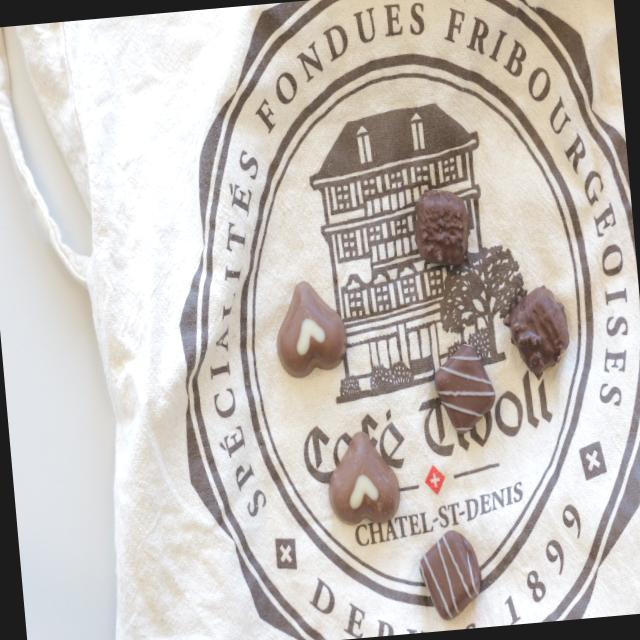Passion_au_lait: (323, 428, 402, 528), (271, 277, 349, 378)
Stracciatella: (416, 528, 484, 622), (430, 340, 497, 434)
Tentation_noir: (501, 280, 573, 380), (412, 187, 470, 269)
